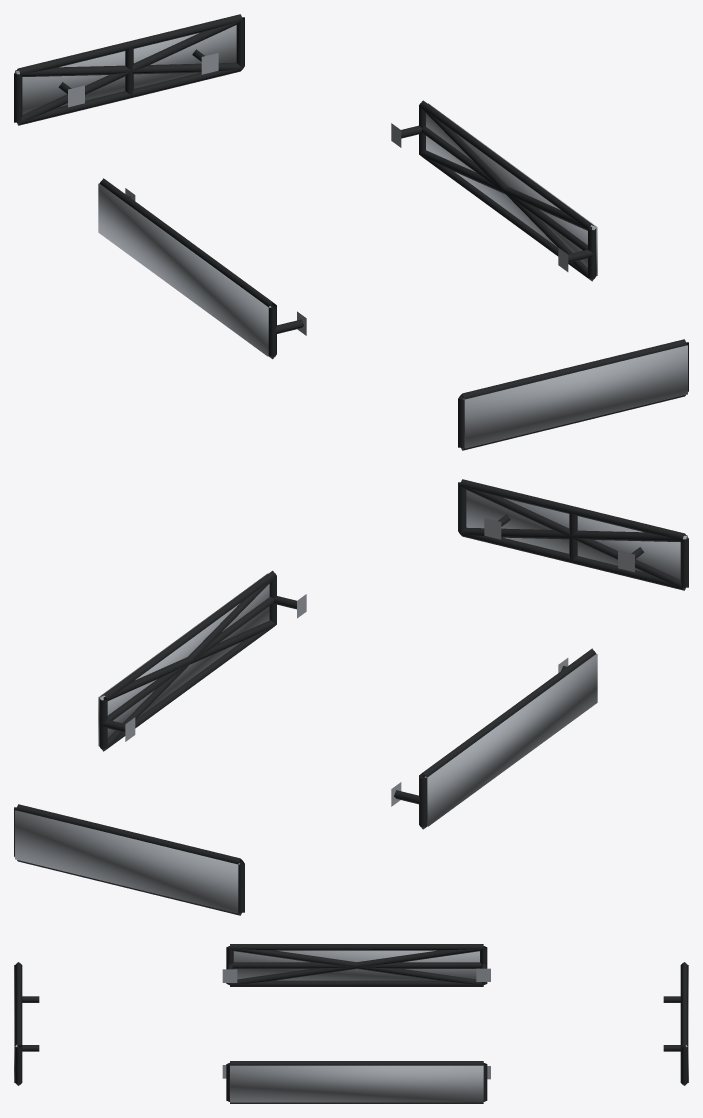
The model's file is ishigumo_capataz_protecao.glb.
3 views of the same model, one above another, from view 1: azimuth 30°, elevation 25°; view 2: azimuth 150°, elevation 25°; view 3: azimuth 270°, elevation 25° (orthographic). The views are drawn at different scales.
Visible parts, largest first — view 1: Protection_front_Level3_Details, Protection_left_Level3_Details, Protection_rear_Level1_Details, Protection_rear_Level3_Details, Protection_right_Level1_Details, Protection_right_Level2_Details, Protection_rear_Level2_Details, Protection_right_Level3_Details, Protection_front_Level1_Details, Protection_left_Level1_Details; view 2: Protection_rear_Level3_Details, Protection_left_Level3_Details, Protection_front_Level1_Details, Protection_front_Level3_Details, Protection_right_Level1_Details, Protection_right_Level2_Details, Protection_front_Level2_Details, Protection_right_Level3_Details, Protection_rear_Level1_Details, Protection_left_Level1_Details; view 3: Protection_right_Level3_Details, Protection_left_Level2_Details, Protection_left_Level1_Details, Protection_left_Level3_Details, Protection_right_Level1_Details, Protection_rear_Level1_Details, Protection_front_Level1_Details.
Boxes of the visible parts, x1,y1,x2,y2 form: Protection_front_Level3_Details: (463,345,687,448); Protection_left_Level3_Details: (98,183,271,356); Protection_rear_Level1_Details: (14,14,244,125); Protection_rear_Level3_Details: (15,25,236,114); Protection_right_Level1_Details: (391,100,596,281); Protection_right_Level2_Details: (419,106,595,280); Protection_rear_Level2_Details: (16,20,242,124); Protection_right_Level3_Details: (426,103,597,275); Protection_front_Level1_Details: (458,339,688,450); Protection_left_Level1_Details: (99,178,306,359); Protection_rear_Level3_Details: (15,810,239,913); Protection_left_Level3_Details: (424,654,597,826); Protection_front_Level1_Details: (458,479,688,590); Protection_front_Level3_Details: (466,490,687,579); Protection_right_Level1_Details: (99,570,306,751); Protection_right_Level2_Details: (101,577,276,750); Protection_front_Level2_Details: (460,485,686,589); Protection_right_Level3_Details: (98,573,269,746); Protection_rear_Level1_Details: (14,804,244,915); Protection_left_Level1_Details: (391,648,596,829); Protection_right_Level3_Details: (230,1065,483,1102); Protection_left_Level2_Details: (229,947,483,985); Protection_left_Level1_Details: (222,944,490,986); Protection_left_Level3_Details: (233,950,479,980); Protection_right_Level1_Details: (222,1061,490,1103); Protection_rear_Level1_Details: (663,962,687,1085); Protection_front_Level1_Details: (15,962,39,1085).
Size of the model in its own units: 2.13 by 0.354 by 5.03.
Materials: 1 (1 with a texture image).
